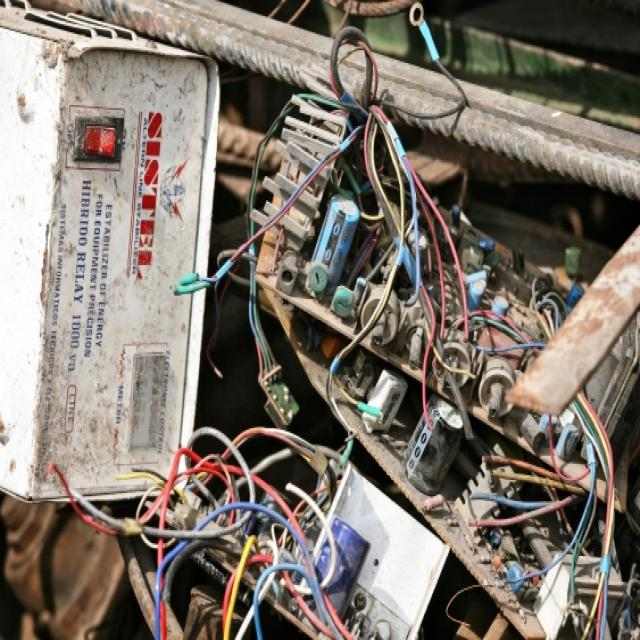hazard: (5, 14, 640, 640)
